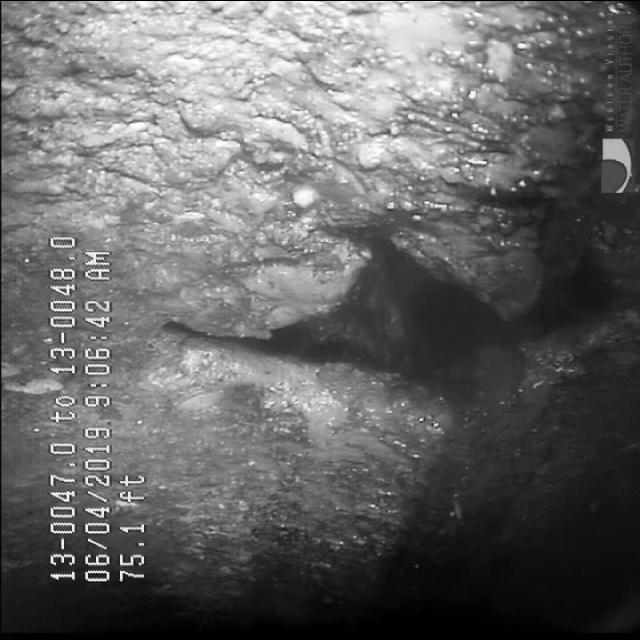Fracture: (158, 196, 560, 448)
